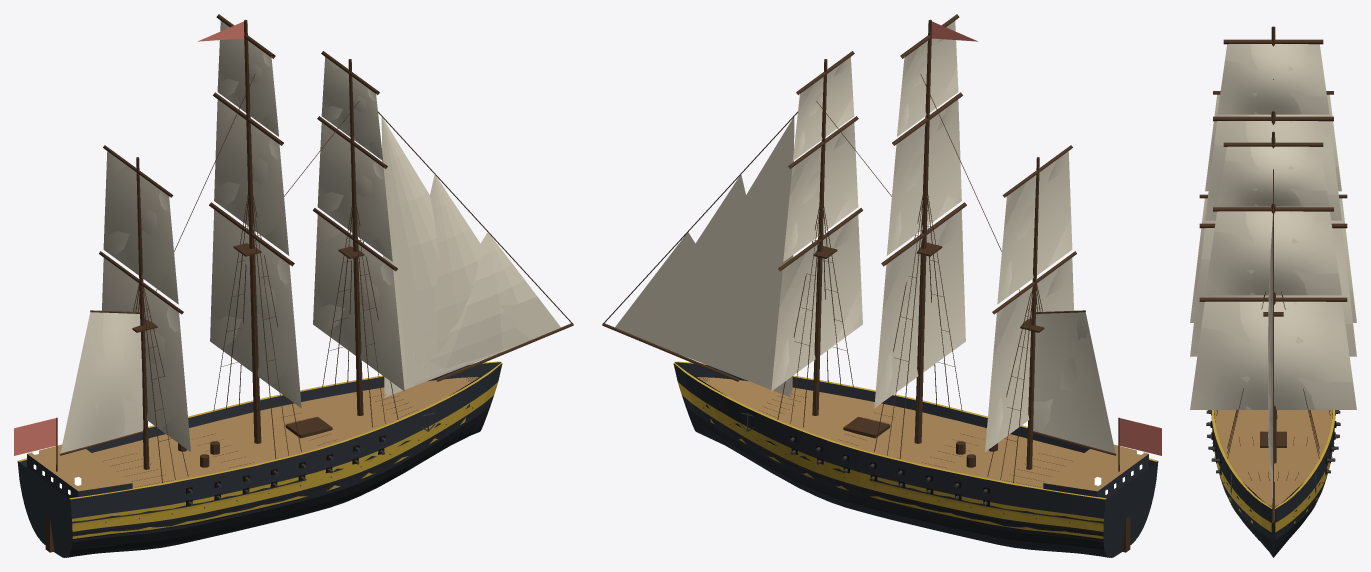
File: corvette.glb
The picture shows the model from 3 angles, left to right: view 1: azimuth 30°, elevation 25°; view 2: azimuth 150°, elevation 25°; view 3: azimuth 270°, elevation 25°; orthographic projection. The views are drawn at different scales.
Visible parts, largest first — view 1: LOD0_Body, LOD2_Body, LOD2_m1_SquareSail, LOD2_m0_SquareSail, LOD2_m2_SquareSail, LOD1_Body, LOD0_m2_AftSail, LOD0_m1_SquareSail, LOD1_m1_SquareSail, LOD0_m0_SquareSail, LOD1_m2_SquareSail, LOD1_m0_SquareSail (+3 smaller); view 2: LOD0_Body, LOD2_Body, LOD2_m1_SquareSail, LOD2_m0_SquareSail, LOD1_Body, LOD2_m2_SquareSail, LOD2_m2_AftSail, LOD0_m1_SquareSail, LOD1_m0_SquareSail, LOD0_m0_SquareSail, LOD1_m1_SquareSail, LOD0_m2_SquareSail (+4 smaller); view 3: LOD0_m0_SquareSail, LOD0_m1_SquareSail, LOD0_Body, LOD2_Body, LOD1_m0_SquareSail, LOD1_m1_SquareSail, LOD0_m2_SquareSail, LOD1_Body, LOD1_m2_SquareSail.
Boxes of the visible parts, box(x1,y1,x2,y2) form: LOD0_Body: box(17, 19, 573, 557); LOD2_Body: box(18, 362, 500, 549); LOD2_m1_SquareSail: box(210, 23, 297, 385); LOD2_m0_SquareSail: box(313, 61, 404, 390); LOD2_m2_SquareSail: box(102, 157, 190, 451); LOD1_Body: box(20, 21, 573, 557); LOD0_m2_AftSail: box(59, 310, 143, 455); LOD0_m1_SquareSail: box(209, 14, 301, 408); LOD1_m1_SquareSail: box(213, 21, 299, 399); LOD0_m0_SquareSail: box(313, 51, 404, 390); LOD1_m2_SquareSail: box(102, 154, 190, 451); LOD1_m0_SquareSail: box(316, 60, 403, 390); LOD0_Body: box(602, 19, 1158, 557); LOD2_Body: box(615, 117, 1157, 550); LOD2_m1_SquareSail: box(876, 27, 965, 399); LOD2_m0_SquareSail: box(773, 62, 862, 382); LOD1_Body: box(602, 21, 1155, 557); LOD2_m2_SquareSail: box(986, 158, 1073, 443); LOD2_m2_AftSail: box(1034, 312, 1115, 453); LOD0_m1_SquareSail: box(874, 14, 966, 408); LOD1_m0_SquareSail: box(779, 83, 862, 346); LOD0_m0_SquareSail: box(771, 51, 862, 391); LOD1_m1_SquareSail: box(882, 47, 965, 347); LOD0_m2_SquareSail: box(985, 145, 1076, 451); LOD0_m0_SquareSail: box(1190, 142, 1352, 409); LOD0_m1_SquareSail: box(1190, 39, 1352, 356); LOD0_Body: box(1206, 26, 1340, 557); LOD2_Body: box(1214, 410, 1332, 553); LOD1_m0_SquareSail: box(1191, 146, 1356, 409); LOD1_m1_SquareSail: box(1191, 44, 1356, 356); LOD0_m2_SquareSail: box(1190, 91, 1352, 322); LOD1_Body: box(1213, 27, 1333, 557); LOD1_m2_SquareSail: box(1190, 94, 1356, 322).
Bounding box in the file's own units: 52.32 × 44.26 × 14.85.
Materials: 3 (1 with a texture image).
